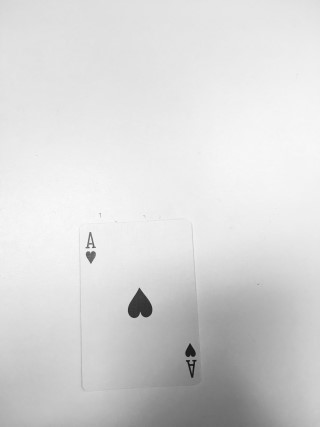AceOfHearts: (79, 220, 201, 391)
